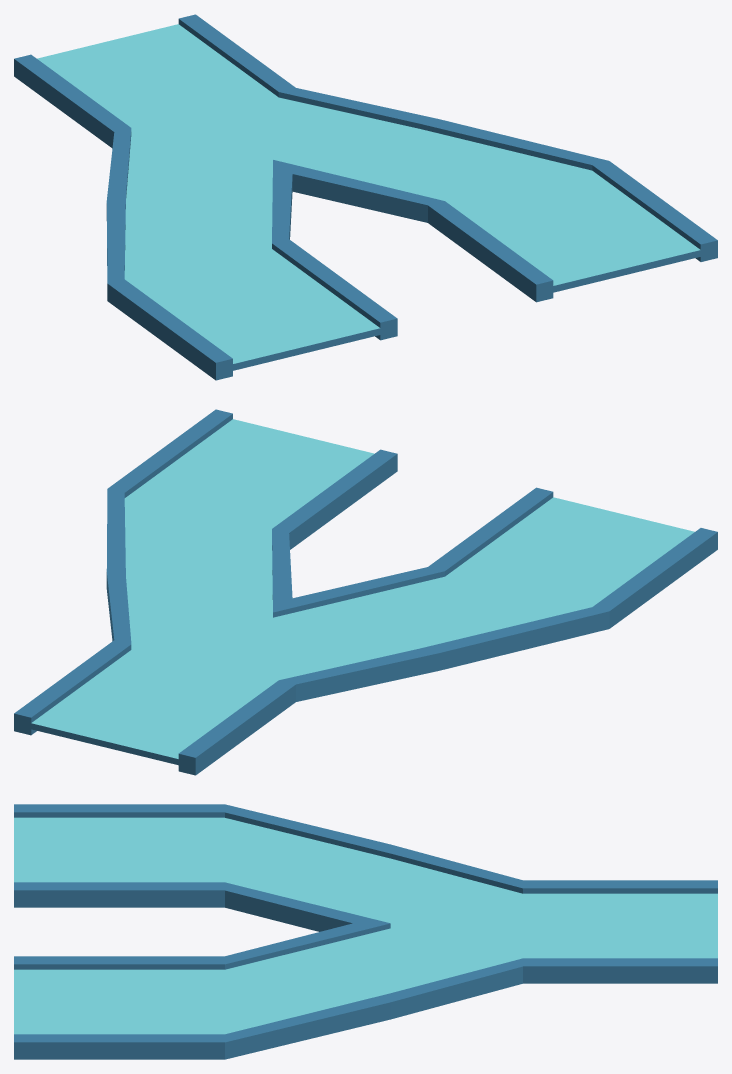
File: Ground3_Blue.fbx
3 views of the same model, one above another, from view 1: azimuth 30°, elevation 25°; view 2: azimuth 150°, elevation 25°; view 3: azimuth 270°, elevation 25° (orthographic). The views are drawn at different scales.
Parts seen in each view (by area): view 1: Cube.022; view 2: Cube.022; view 3: Cube.022.
Part boxes in pixels (bbox=[...]): Cube.022: bbox=[14, 14, 717, 380]; Cube.022: bbox=[14, 409, 717, 775]; Cube.022: bbox=[14, 804, 717, 1059].
Bounding box in the file's own units: 17.34 × 21.66 × 0.5843.
